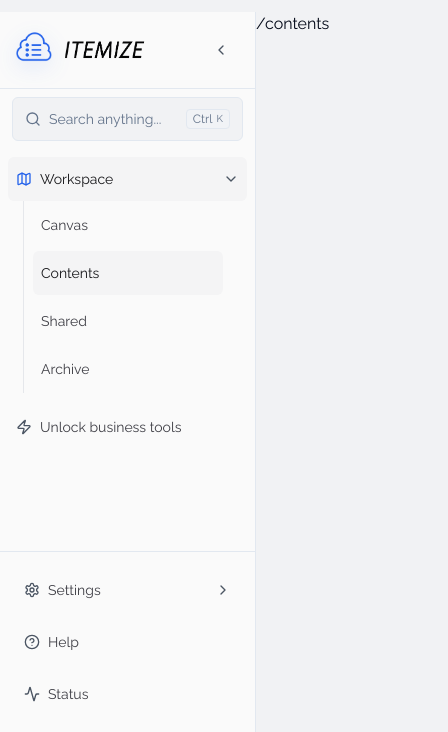
AppSidebar first-run disclosure › deep-links Free users from Unlock business tools to the expanded plans section
Click the button "Unlock business tools" at [128, 427], box left=8, top=405, right=247, bottom=449
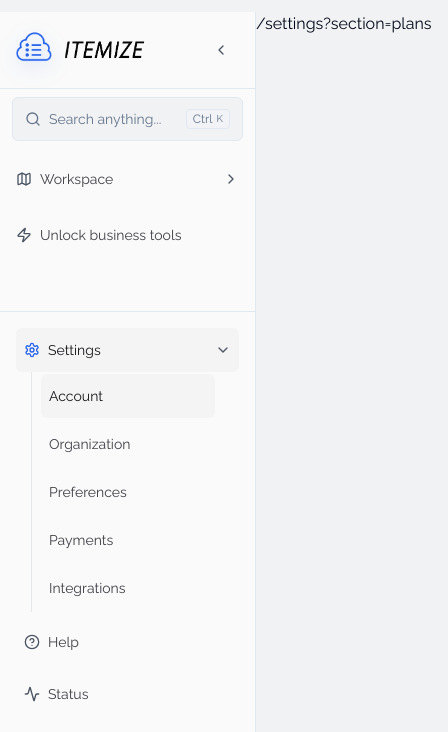
Now the text with test id "location" reads "/settings?section=plans", box left=256, top=14, right=432, bottom=33
